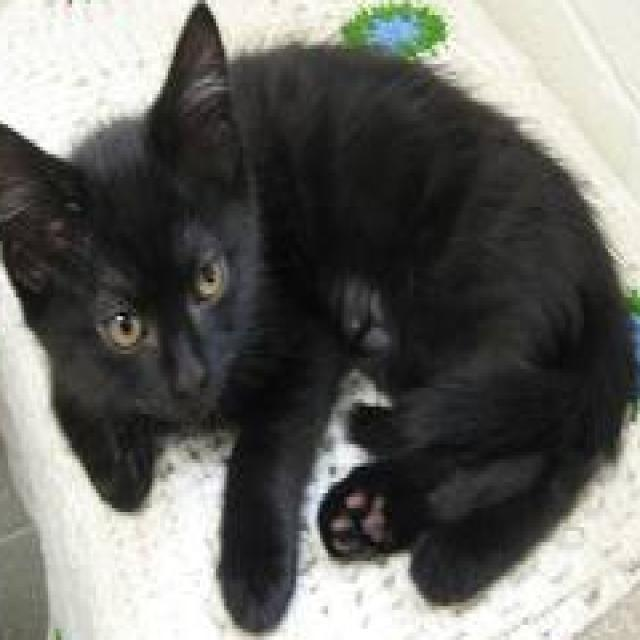Bombay: (0, 0, 629, 636)
